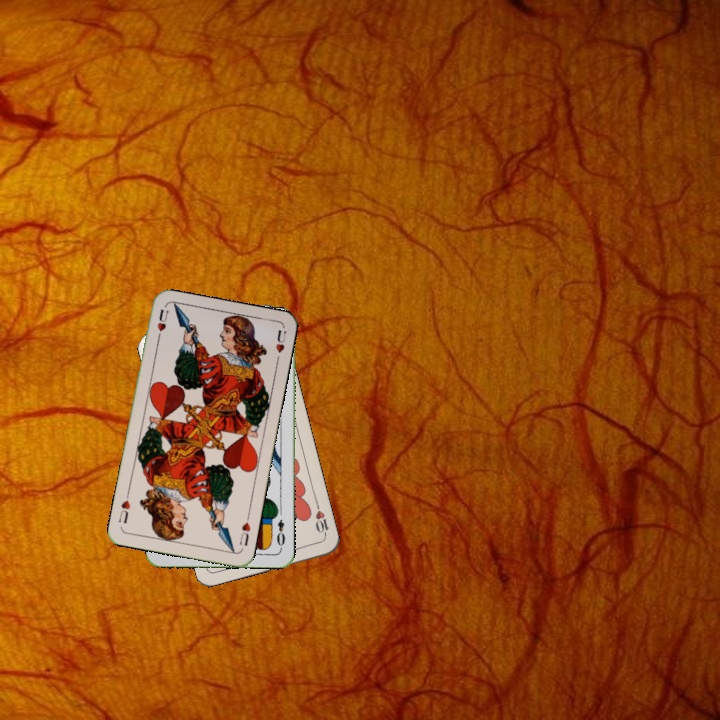EO: (272, 516, 288, 551)
H10: (311, 500, 331, 540)
HU: (153, 305, 171, 344), (235, 511, 253, 548)
